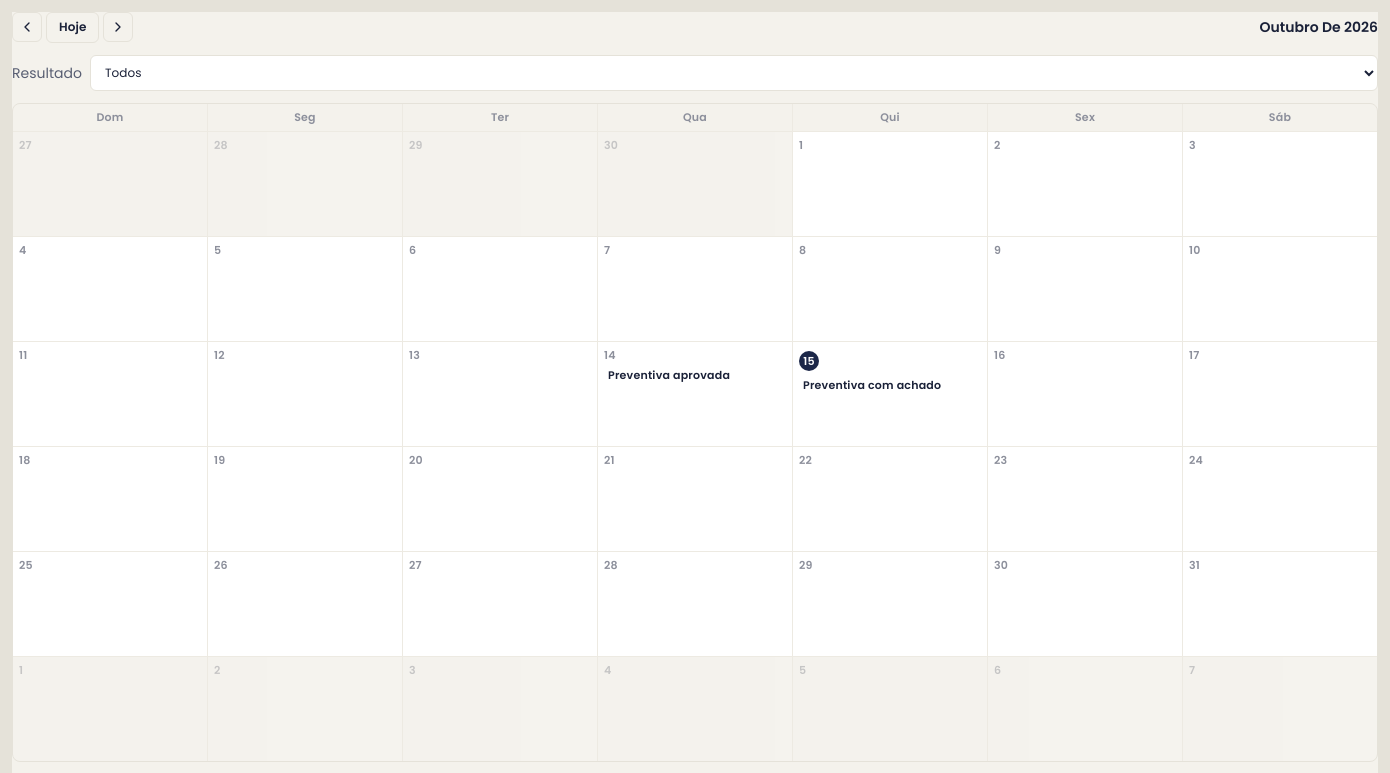
PreventivasCalendarioView › filtra o calendário pelo resultado consolidado sem ocultar a navegação mensal
Select "Não OK" in the dropdown named "Filtrar por resultado" at point(734, 73), box [90,55,1378,91]
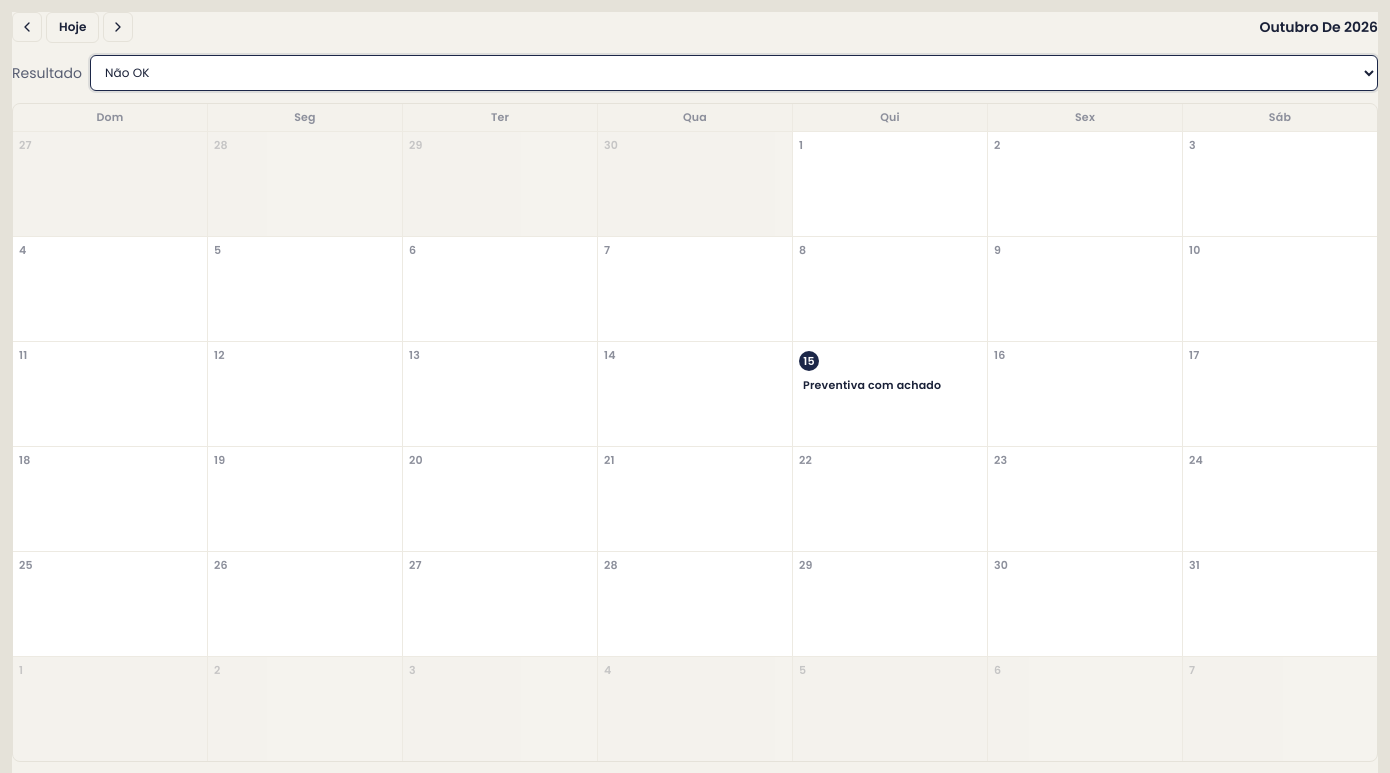
Check: the button "Preventiva com achado" is shown, box [799,376,981,394]
Check: the button "Preventiva aprovada" is gone
